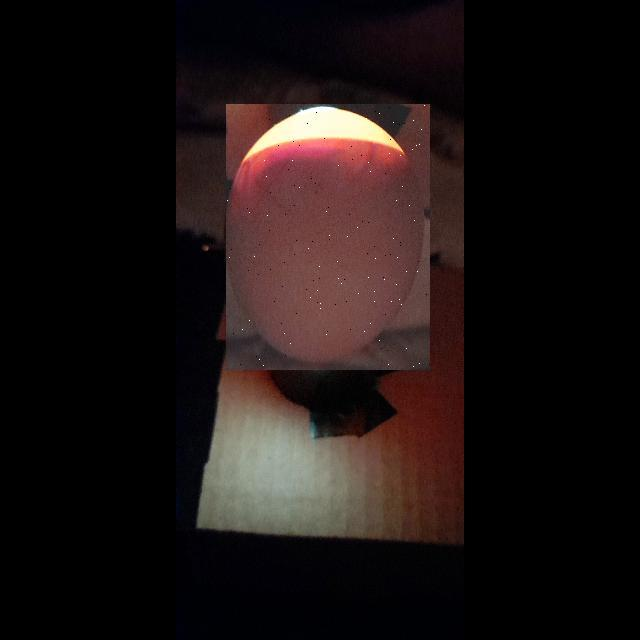Fertile: (226, 104, 430, 370)
